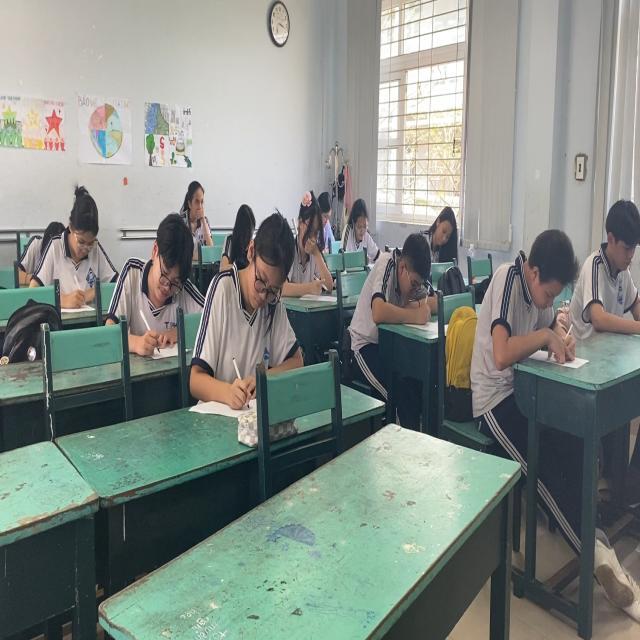not_cheating: (212, 200, 283, 386), (488, 231, 583, 359), (120, 210, 196, 345), (586, 188, 640, 344), (46, 186, 116, 303), (363, 238, 435, 310), (293, 186, 338, 300), (176, 176, 211, 248), (423, 199, 462, 248), (340, 199, 378, 248)
